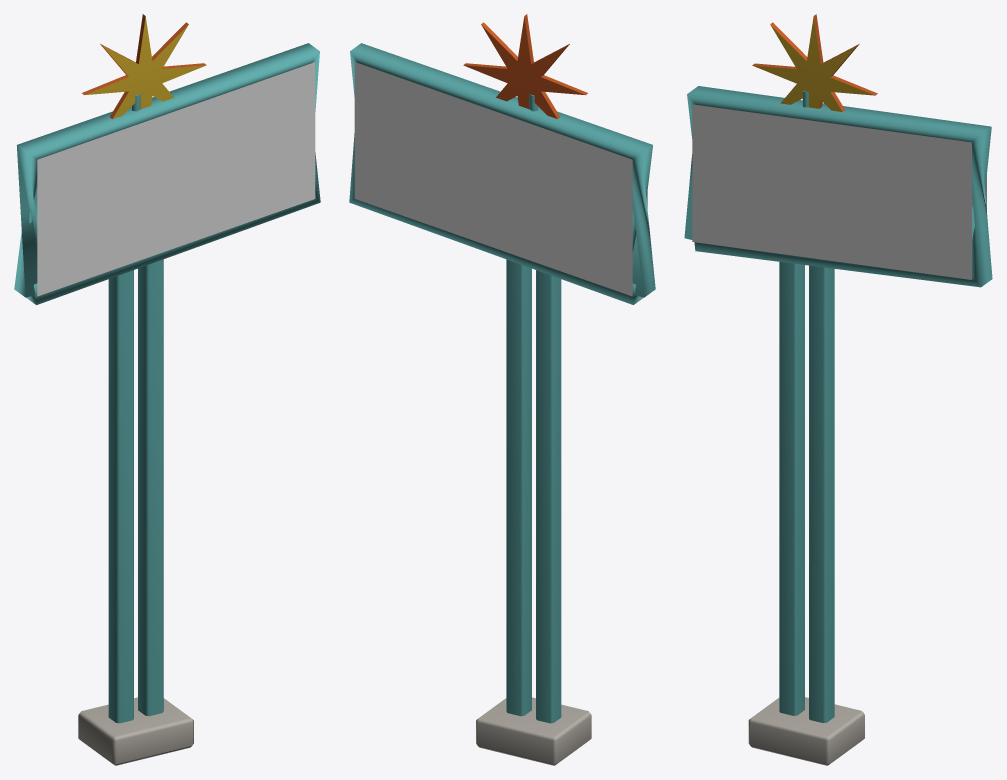
File: DinerSignFL.fbx
3 renders of one model, left to right at view 1: azimuth 30°, elevation 25°; view 2: azimuth 150°, elevation 25°; view 3: azimuth 330°, elevation 25°, orthographic.
Visible parts, largest first — view 1: DinerSignFL; view 2: DinerSignFL; view 3: DinerSignFL.
Boxes of the visible parts, x1=… form: DinerSignFL: x1=14, y1=14, x2=320, y2=765; DinerSignFL: x1=349, y1=14, x2=655, y2=765; DinerSignFL: x1=684, y1=14, x2=992, y2=765.
Size of the model in its own units: 3.61 by 8.5 by 0.8.
